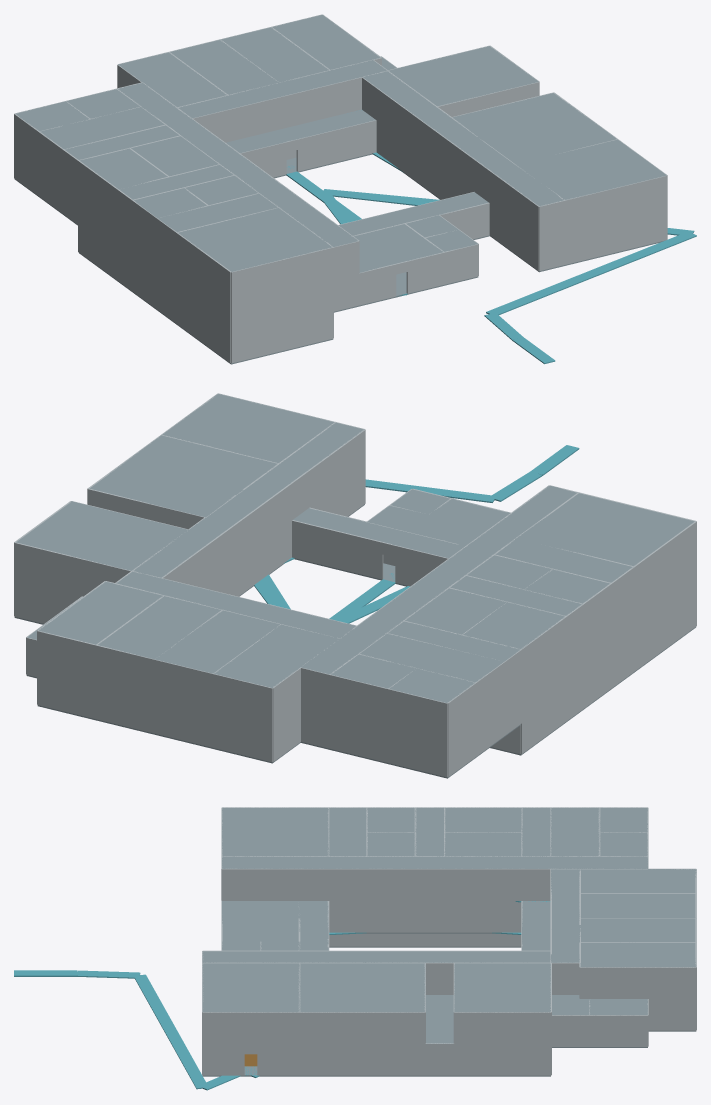
The model's file is furnished.glb.
3 views of the same model, one above another, from view 1: azimuth 30°, elevation 25°; view 2: azimuth 150°, elevation 25°; view 3: azimuth 270°, elevation 25° (orthographic). The views are drawn at different scales.
Visible parts, largest first — view 1: Ceiling cap study, Wall upper-east W, Ceiling cap upper-west, Ceiling cap upper-main-stair, Wall upper-north S, Ceiling cap upper-east-stair, Ceiling cap restricted, Ceiling cap upper-east, Wall upper-main-stair S, Wall upper-east-stair S, Wall east-stair S, Wall main-stair S (+51 smaller); view 2: Ceiling cap study, Wall upper-east W, Ceiling cap upper-west, Ceiling cap upper-main-stair, Ceiling cap restricted, Ceiling cap upper-east-stair, Ceiling cap upper-east, Ceiling cap dorm-1, Ceiling cap dorm-2, Ceiling cap dorm-3, Ceiling cap dorm-4, Ceiling cap upper-north (+57 smaller); view 3: Wall upper-west E.001, Ceiling cap study, Wall west E.001, Ceiling cap upper-main-stair, Ceiling cap upper-west, Ceiling cap upper-east-stair, Ceiling cap restricted, Ceiling cap upper-east, Wall lecture E, Wall study E, Wall dorm-4 E, Ceiling cap reception (+36 smaller).
Boxes of the visible parts, x1,y1,x2,y2 form: Ceiling cap study: [452, 93, 616, 164]; Wall upper-east W: [362, 77, 539, 238]; Ceiling cap upper-west: [117, 82, 357, 246]; Ceiling cap upper-main-stair: [178, 208, 332, 271]; Wall upper-north S: [192, 75, 368, 142]; Ceiling cap upper-east-stair: [516, 139, 666, 199]; Ceiling cap restricted: [388, 46, 538, 106]; Ceiling cap upper-east: [363, 71, 563, 206]; Wall upper-main-stair S: [231, 247, 333, 304]; Wall upper-east-stair S: [565, 175, 667, 232]; Wall east-stair S: [565, 208, 667, 264]; Wall main-stair S: [231, 279, 333, 336]; Ceiling cap study: [90, 435, 277, 517]; Wall upper-east W: [161, 429, 365, 587]; Ceiling cap upper-west: [301, 485, 577, 674]; Ceiling cap upper-main-stair: [517, 493, 694, 566]; Ceiling cap restricted: [16, 501, 188, 570]; Ceiling cap upper-east-stair: [162, 393, 334, 462]; Ceiling cap upper-east: [133, 422, 364, 577]; Ceiling cap dorm-1: [214, 624, 339, 687]; Ceiling cap dorm-2: [155, 610, 279, 673]; Ceiling cap dorm-3: [98, 596, 220, 659]; Ceiling cap dorm-4: [39, 581, 162, 644]; Ceiling cap upper-north: [116, 571, 355, 638]; Wall upper-west E.001: [222, 868, 558, 900]; Ceiling cap study: [299, 963, 425, 1012]; Wall west E.001: [329, 901, 521, 932]; Ceiling cap upper-main-stair: [222, 807, 328, 856]; Ceiling cap upper-west: [222, 856, 647, 868]; Ceiling cap upper-east-stair: [202, 963, 299, 1012]; Ceiling cap restricted: [454, 963, 550, 1012]; Ceiling cap upper-east: [202, 951, 550, 962]; Wall lecture E: [299, 1044, 425, 1075]; Wall study E: [299, 1012, 425, 1043]; Wall dorm-4 E: [580, 967, 696, 998]; Ceiling cap reception: [222, 901, 299, 941].
Size of the model in its own units: 53.54 by 10.36 by 70.58.
